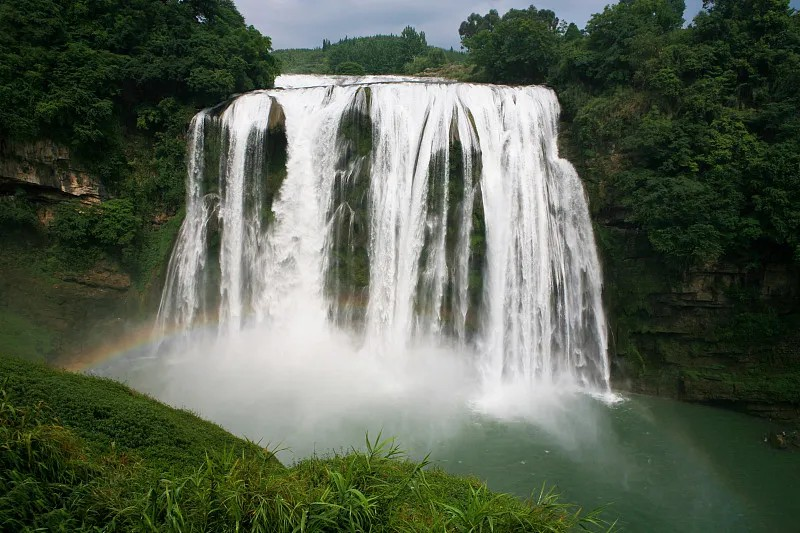Huangguoshu: (164, 73, 609, 393)
